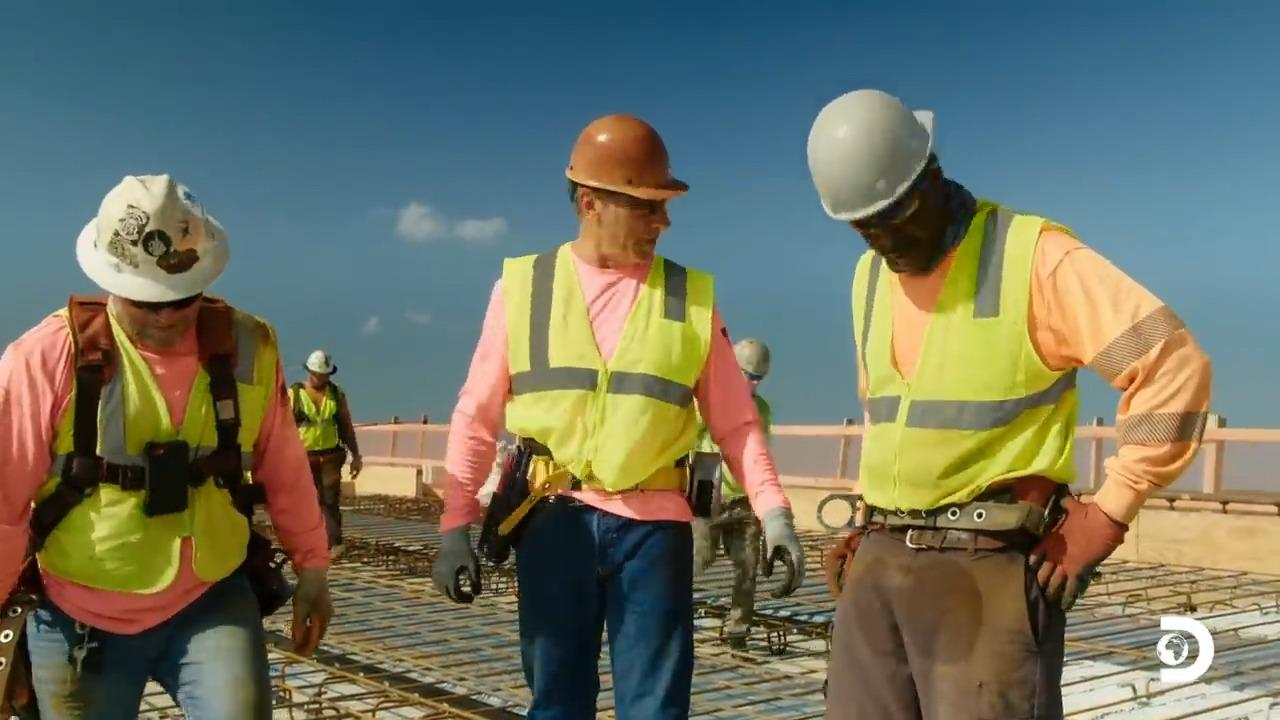Gloves: (1027, 484, 1104, 595), (757, 500, 806, 595), (280, 570, 333, 654), (429, 524, 479, 599), (347, 451, 367, 487)
Helmet: (75, 172, 229, 303), (806, 88, 931, 221), (565, 113, 689, 201), (732, 338, 770, 378), (304, 350, 336, 374)
Person: (806, 85, 1212, 717), (430, 112, 805, 719), (0, 172, 334, 719), (694, 327, 777, 649), (286, 349, 362, 553)
Safety Vest: (58, 349, 251, 605), (507, 258, 695, 500), (868, 269, 1062, 503), (295, 392, 344, 448)
